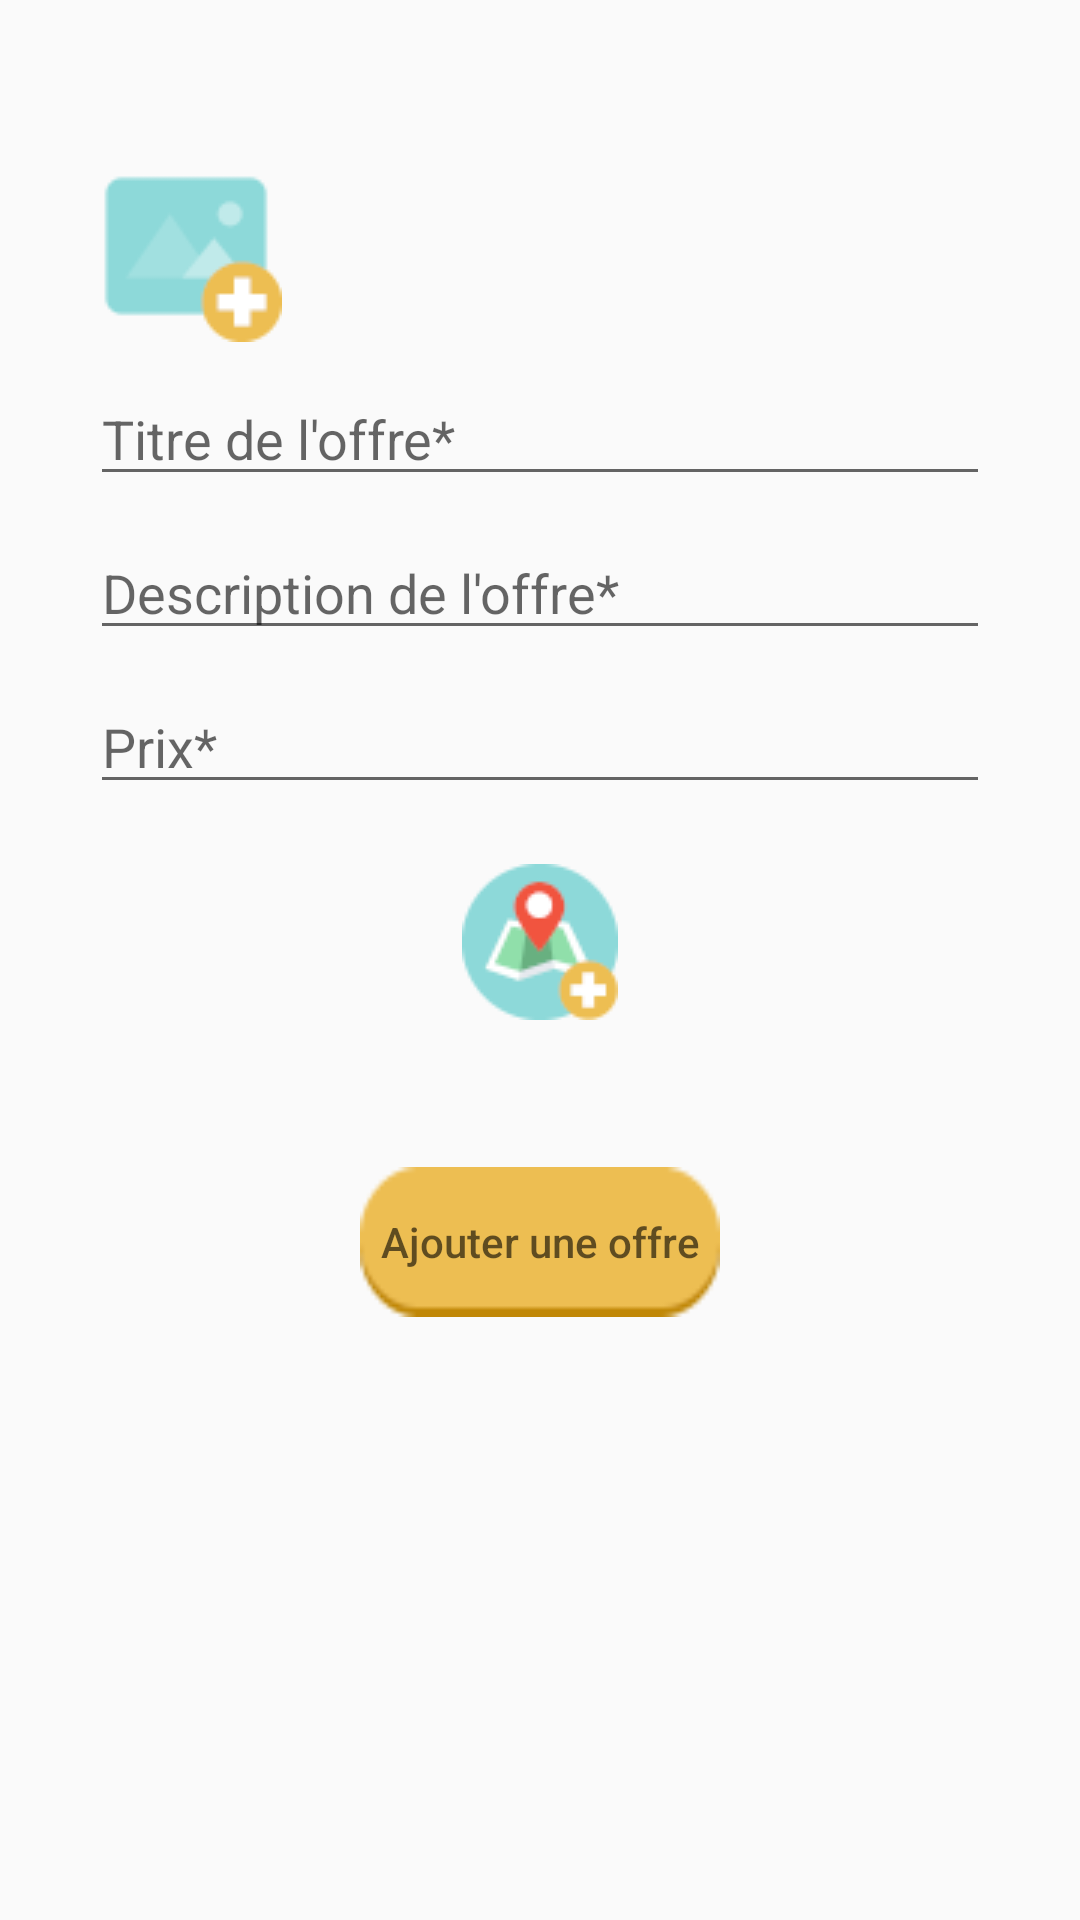

Named icons in this screenshot (1080 x 1920) and their bounding boxes, (x1, y1, x2, y2):
addimage: (105, 177, 282, 342)
maps: (462, 864, 618, 1020)
